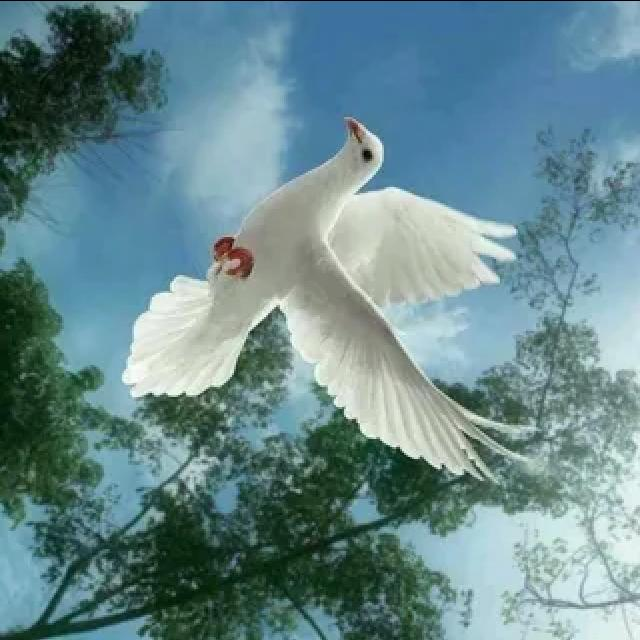pigeon: (122, 111, 542, 491)
